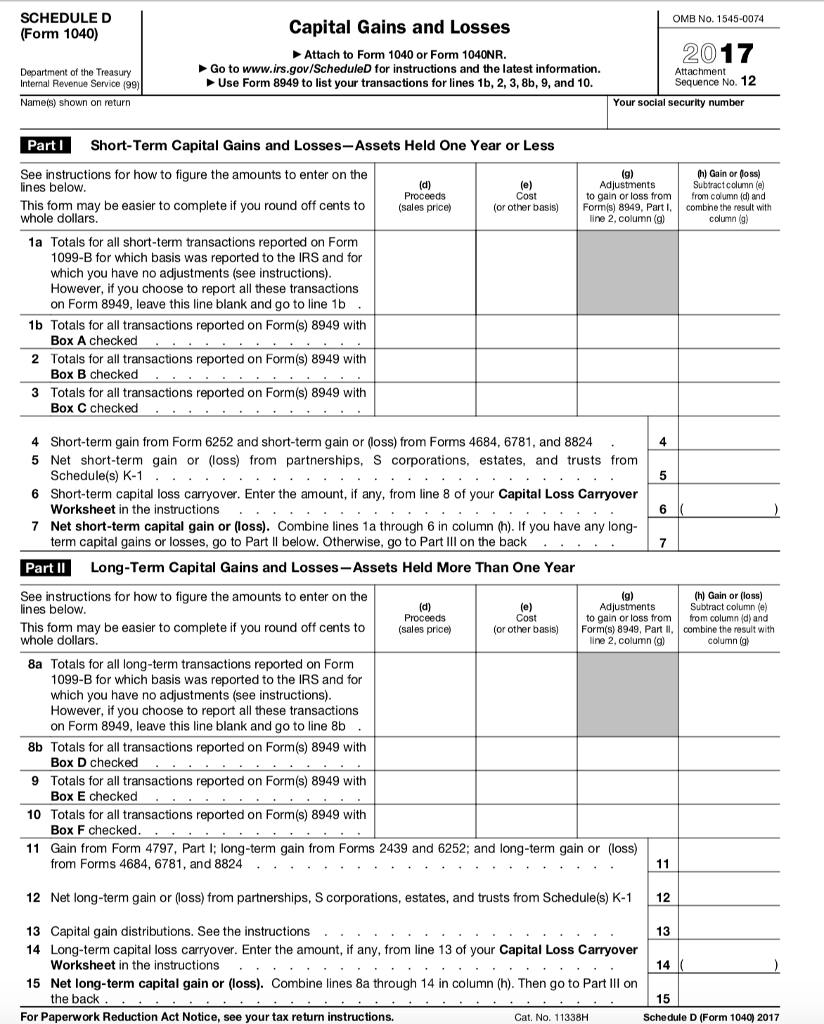textbox: (16, 93, 611, 132), (370, 645, 480, 743), (471, 645, 581, 743), (575, 646, 685, 744), (671, 644, 781, 742), (368, 223, 481, 318), (470, 223, 583, 318), (570, 225, 683, 320), (671, 225, 784, 320), (603, 92, 783, 130), (369, 729, 481, 775), (470, 730, 582, 776), (571, 729, 683, 775), (672, 730, 784, 776), (371, 762, 483, 808), (470, 762, 582, 808), (572, 762, 684, 808), (674, 762, 786, 808), (368, 794, 480, 840), (470, 796, 582, 842), (571, 796, 683, 842), (671, 798, 783, 844), (671, 830, 783, 876), (673, 869, 785, 915), (672, 900, 784, 946), (673, 934, 785, 980), (675, 965, 787, 1011), (369, 307, 479, 353), (468, 307, 578, 353), (574, 307, 684, 353), (674, 309, 784, 355), (369, 342, 479, 388), (470, 340, 580, 386), (573, 341, 683, 387), (676, 342, 786, 388), (371, 375, 481, 421), (475, 374, 585, 420), (571, 373, 681, 419), (676, 377, 786, 423), (674, 409, 784, 455), (673, 441, 783, 487), (673, 472, 783, 518), (673, 509, 783, 555)
